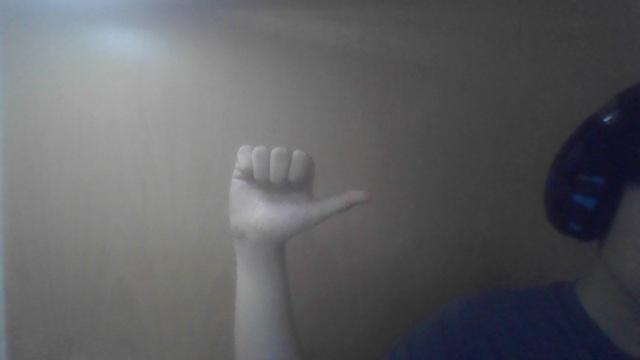left: (224, 144, 372, 252)
